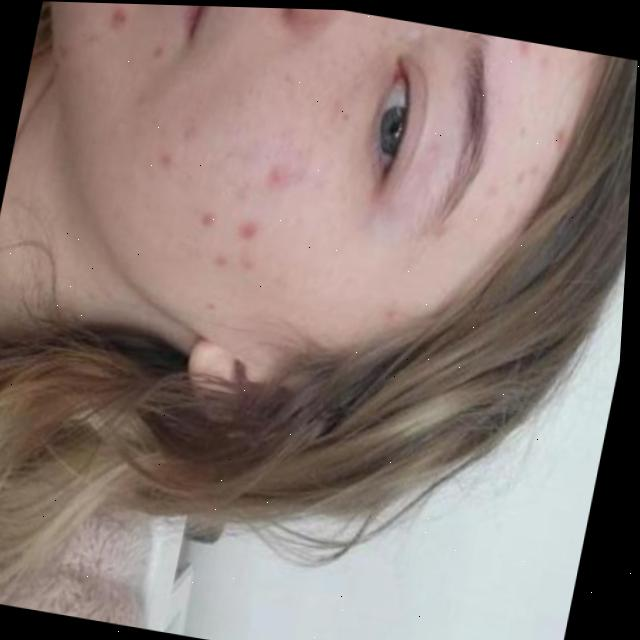Acne: (104, 83, 362, 338), (464, 57, 567, 199), (88, 3, 153, 32)
